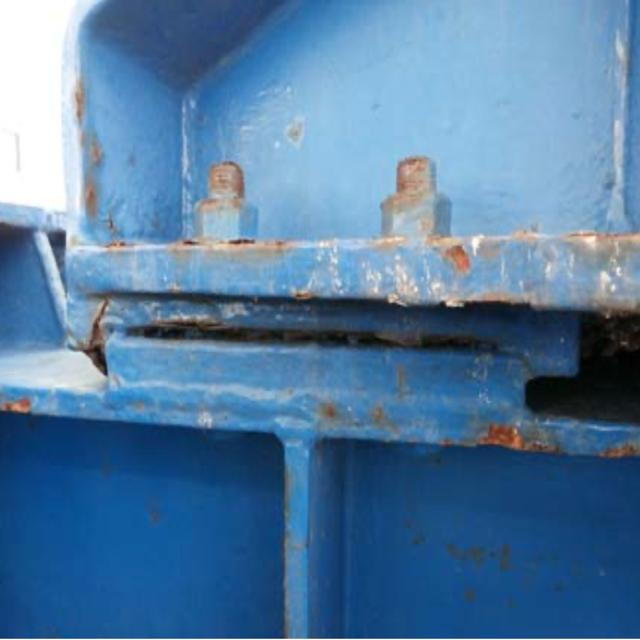corrosion: (70, 94, 619, 459)
